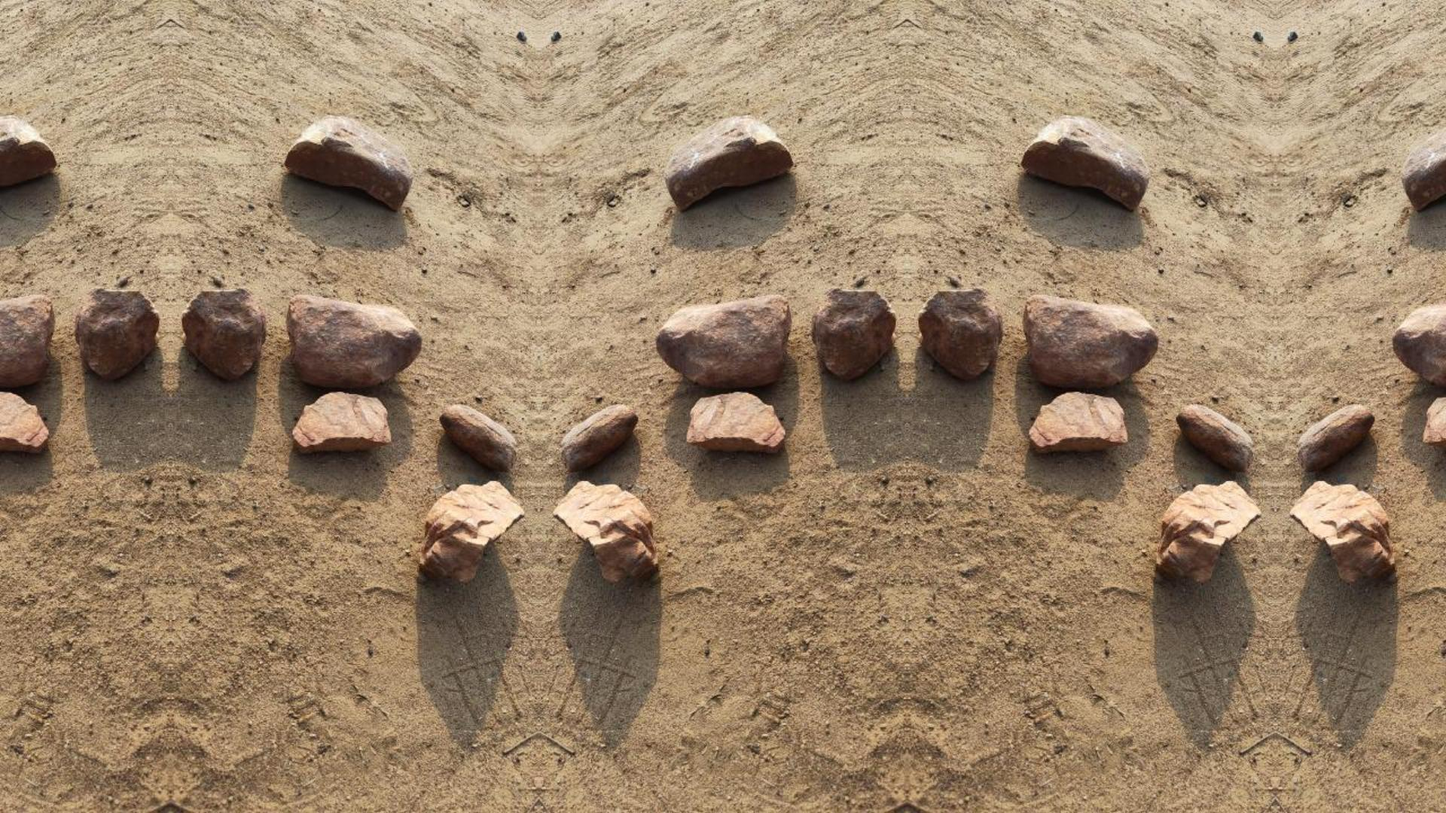rock: (656, 295, 791, 388), (287, 295, 420, 388), (1023, 295, 1157, 387), (664, 116, 793, 211), (1021, 116, 1149, 210), (285, 115, 412, 209), (420, 481, 523, 582), (1157, 481, 1260, 582), (1290, 481, 1393, 582), (554, 481, 656, 582), (917, 288, 1002, 379), (812, 288, 895, 379), (182, 288, 264, 379), (76, 289, 158, 379), (687, 392, 784, 452), (1029, 392, 1126, 452), (293, 392, 391, 451), (560, 404, 637, 471), (1297, 404, 1374, 471), (439, 404, 515, 471), (1176, 404, 1252, 471), (0, 295, 53, 388), (1392, 303, 1445, 386), (0, 116, 55, 185), (1402, 130, 1445, 210), (0, 392, 47, 452), (1422, 396, 1445, 447)
